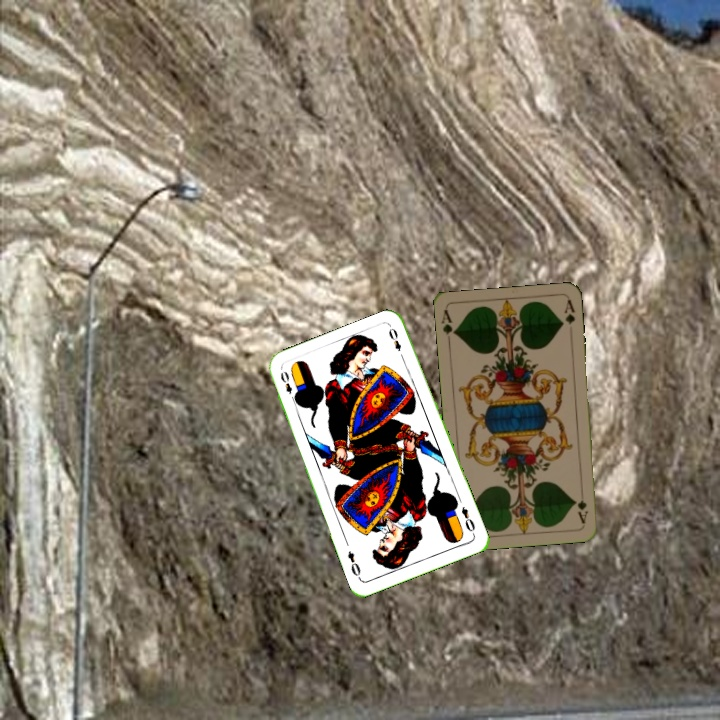EO: (276, 367, 299, 405), (457, 502, 477, 537)
GA: (438, 307, 459, 347), (574, 485, 591, 526)
